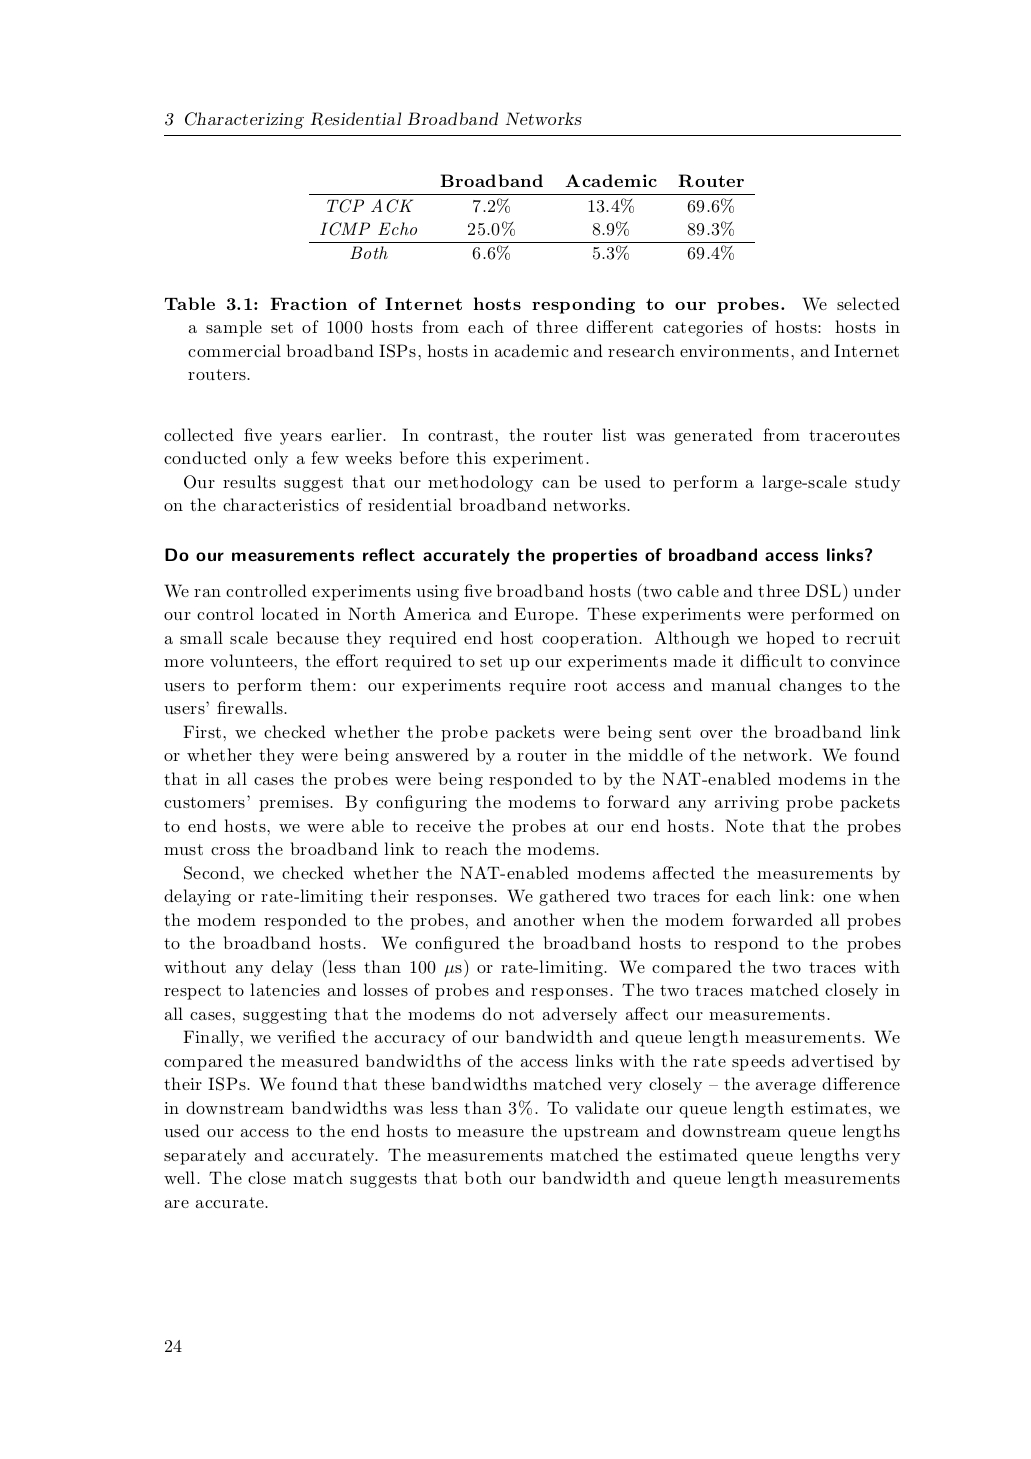Table: (309, 174, 754, 259)
